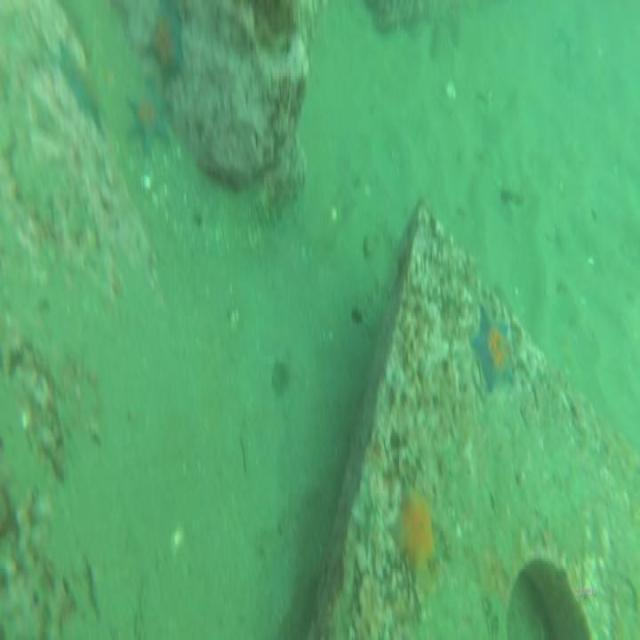holothurian: (252, 168, 300, 228)
starfish: (385, 482, 439, 578), (53, 40, 104, 131), (468, 302, 516, 395), (123, 80, 169, 155), (149, 13, 186, 79)
